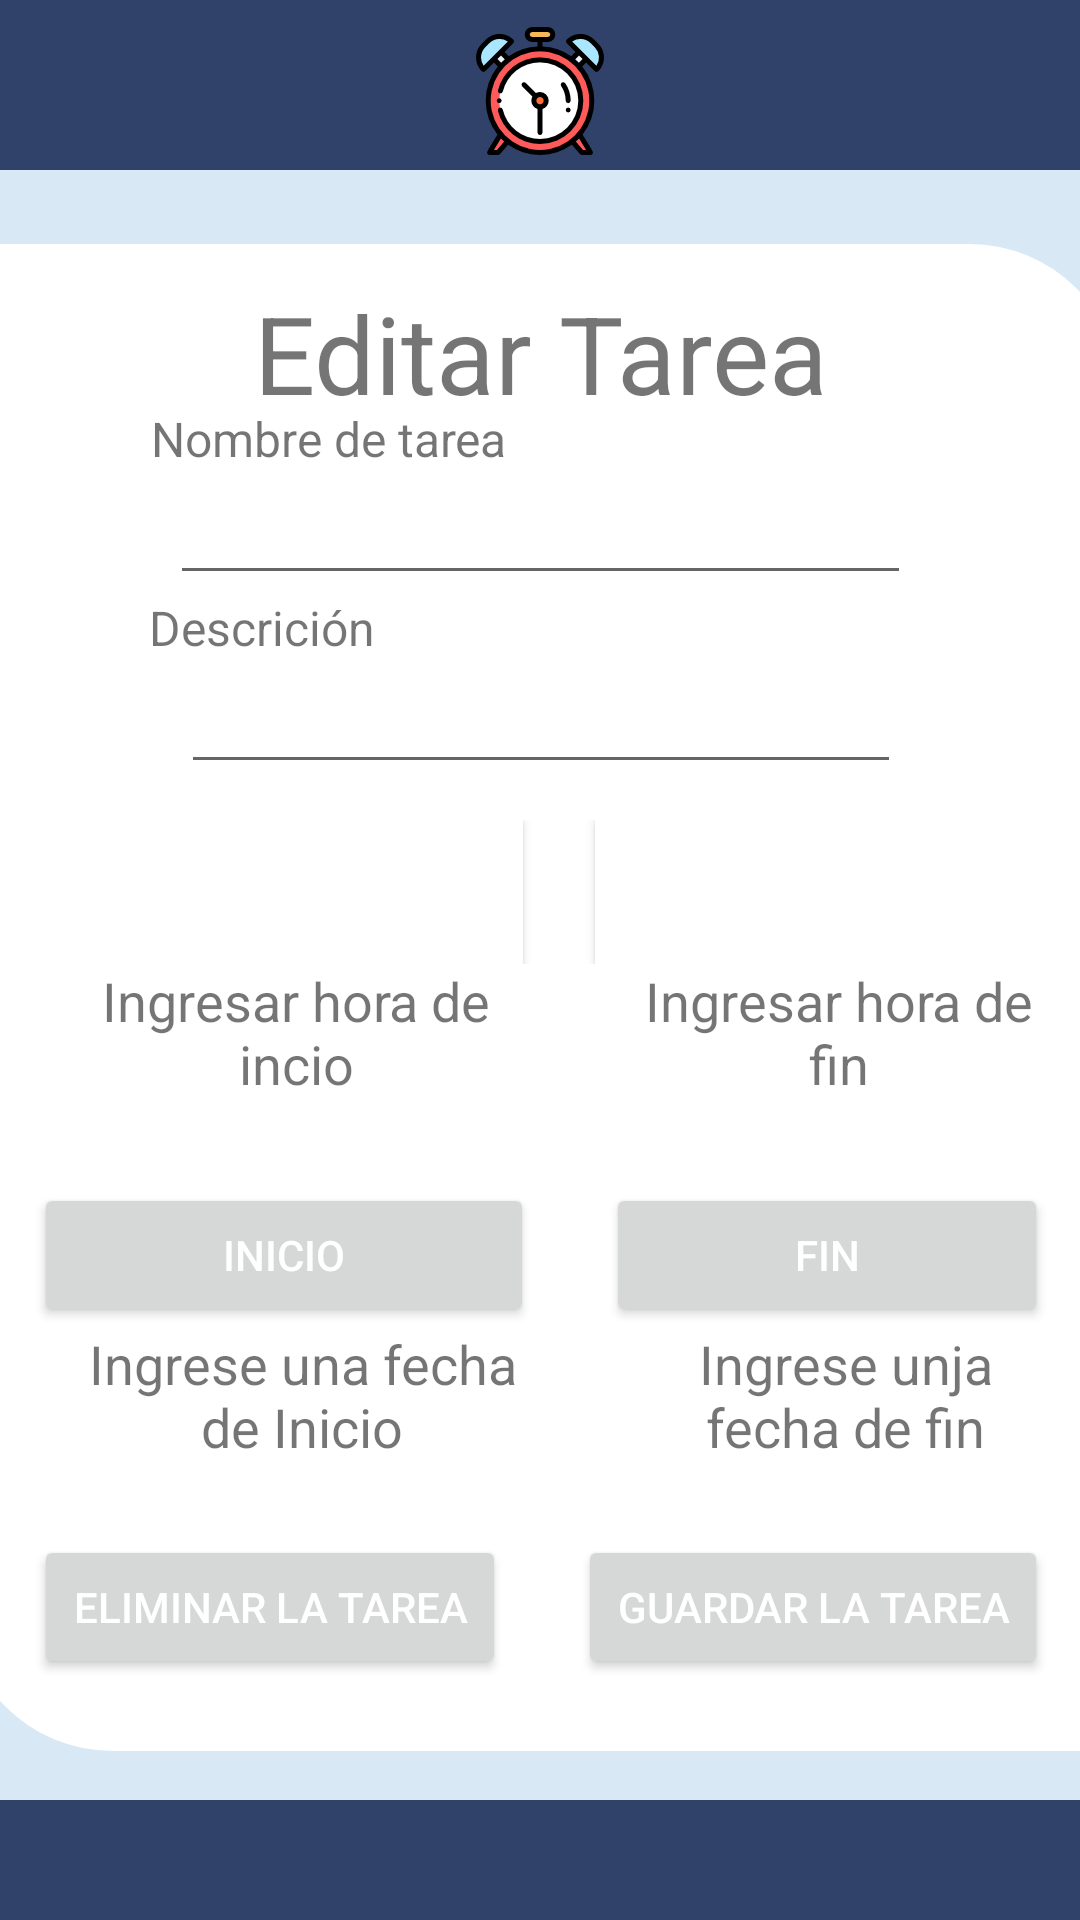

Where to tap for icons on this 1080px x 1920px app screen, as (x=x, y=y):
clocks: (x=540, y=91)
